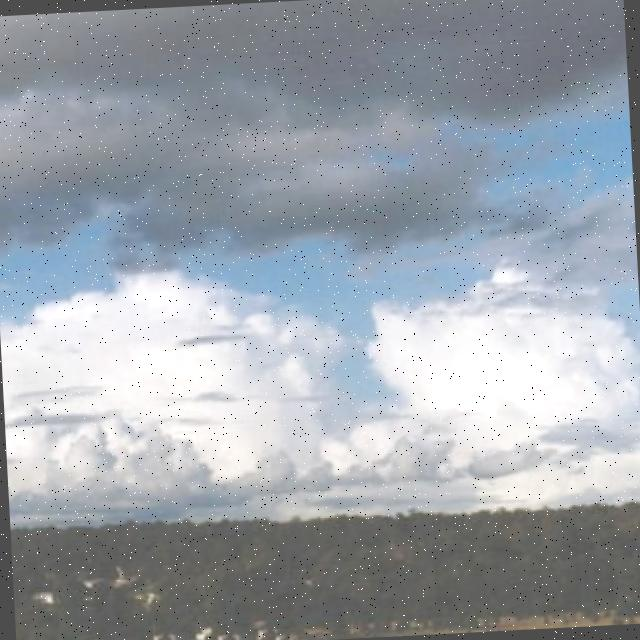Sc: (1, 1, 638, 301)
